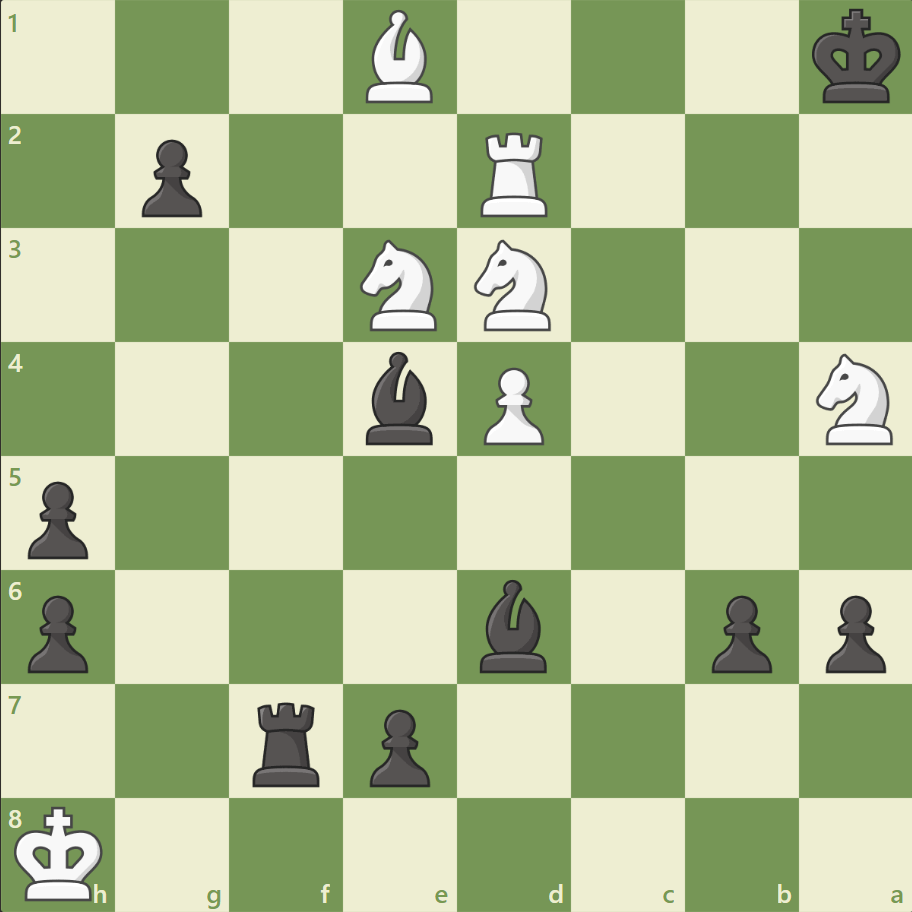B: (358, 6, 442, 109)
K: (11, 798, 111, 906)
N: (351, 234, 449, 337), (465, 234, 562, 337), (806, 348, 903, 450)
P: (474, 359, 549, 450)
R: (473, 125, 556, 222)
b: (471, 574, 555, 676), (358, 347, 442, 449)
k: (806, 4, 906, 112)
p: (701, 586, 776, 677), (20, 586, 95, 677), (20, 473, 95, 564), (133, 132, 208, 223), (361, 700, 435, 791), (815, 586, 889, 677)
r: (246, 693, 329, 790)
